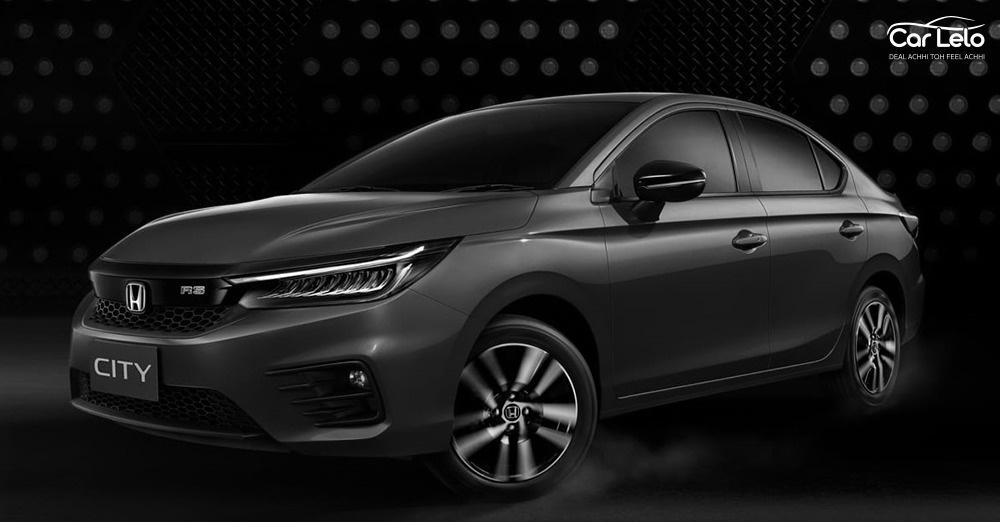Car hood: (86, 184, 533, 271)
Fender - -F-L-: (410, 180, 615, 427)
Fender - -R-L-: (846, 194, 923, 366)
Front bumper: (62, 299, 468, 475)
Headlight - -L-: (213, 227, 468, 312)
Passenger-s door - -F-L-: (610, 103, 770, 396)
Passenger-s door - -R-L-: (750, 109, 876, 370)
Rear bumper: (897, 272, 946, 354)
Rear light - -L-: (890, 183, 936, 249)
Side bumper - -L-: (584, 352, 863, 423)
Side mirror - -L-: (627, 144, 714, 238)
